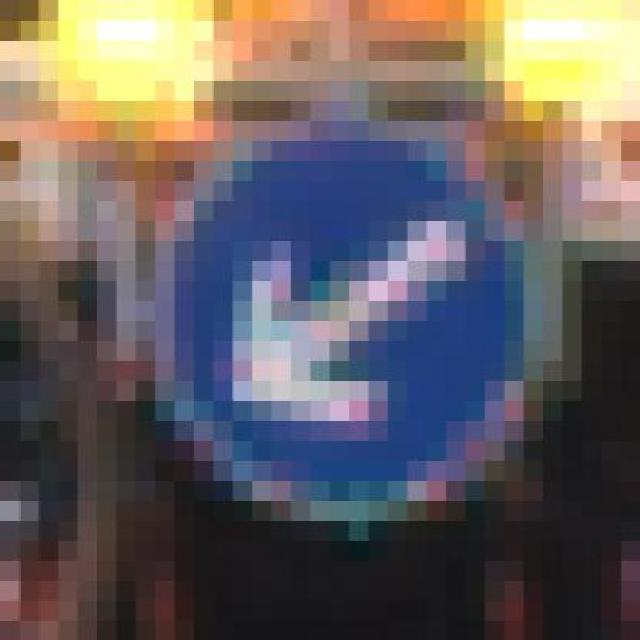Keep-Left: (135, 120, 543, 540)
